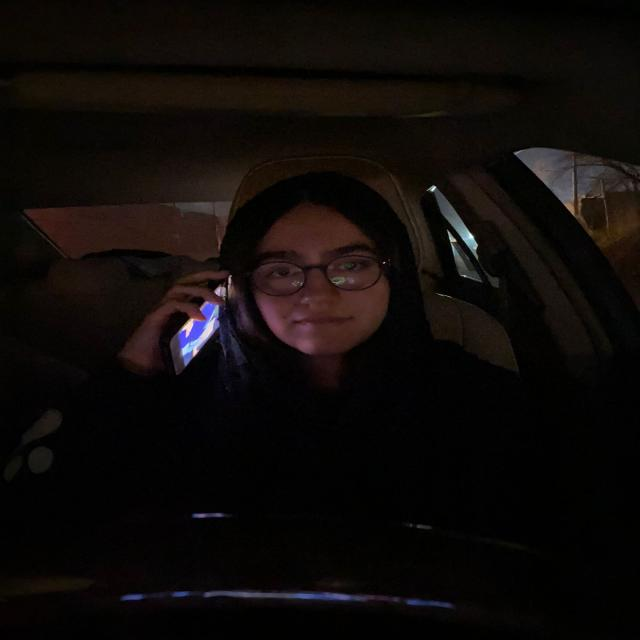mobile: (162, 274, 236, 382)
person: (229, 169, 422, 372)
